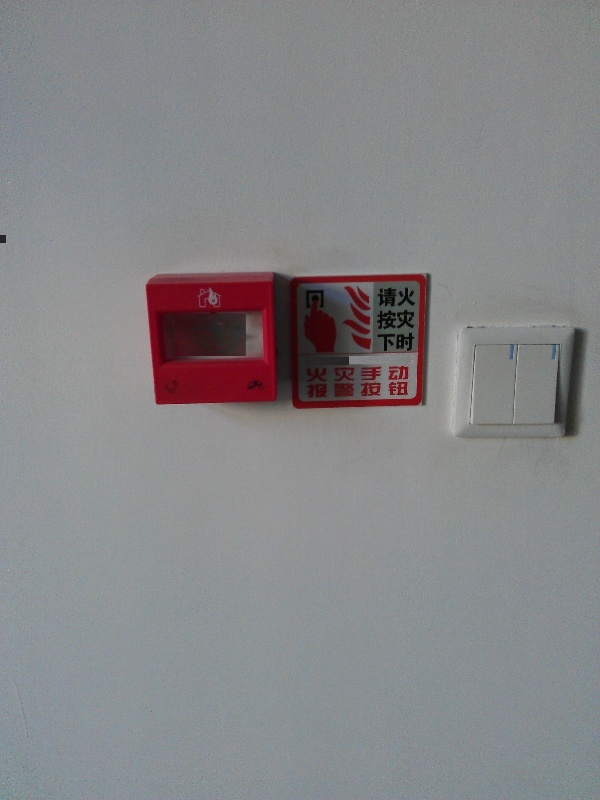text: (401, 287, 417, 352), (385, 287, 398, 352), (377, 287, 384, 352), (321, 381, 336, 399), (337, 381, 352, 399), (353, 381, 368, 399), (369, 381, 384, 399), (385, 381, 400, 399), (321, 366, 336, 383), (337, 366, 352, 383), (353, 366, 368, 383), (369, 366, 384, 383), (385, 366, 400, 383), (306, 366, 320, 383), (307, 381, 320, 399), (401, 381, 410, 399), (401, 366, 410, 383), (398, 287, 400, 352)
